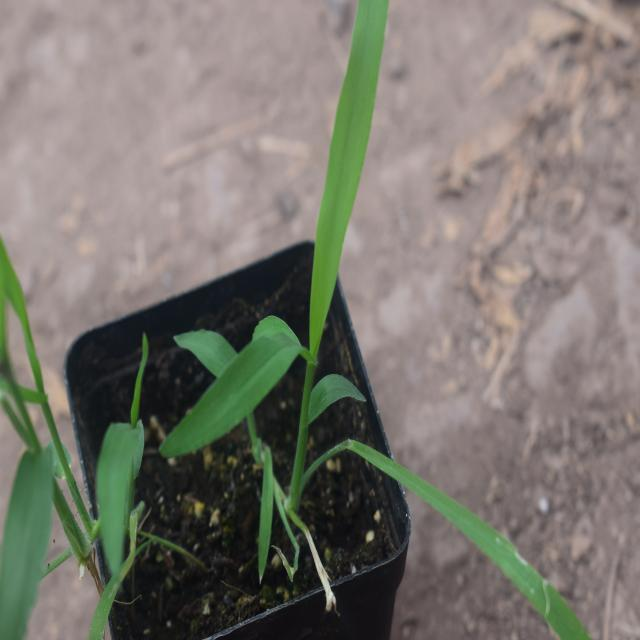crabgrass: (182, 0, 386, 473)
